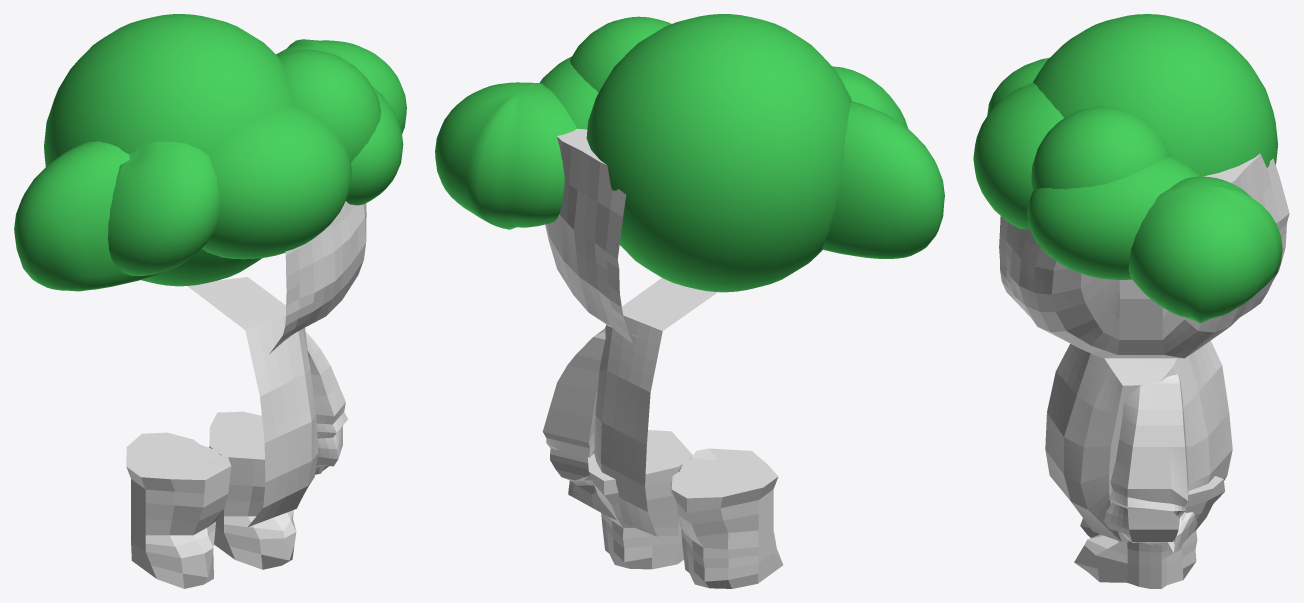
3 renders of one model, left to right at view 1: azimuth 30°, elevation 25°; view 2: azimuth 150°, elevation 25°; view 3: azimuth 270°, elevation 25°, orthographic. The views are drawn at different scales.
Parts seen in each view (by area): view 1: 球體.004, 球體, 左腳, 身體, 球體.005, 球體.006, 右腳, 頭, 球體.003, 球體.002, 立方體.003, 球體.001; view 2: 球體.004, 球體.001, 球體.005, 身體, 左腳, 頭, 右腳, 立方體.003, 球體.003, 球體.002, 球體.006; view 3: 球體.004, 身體, 頭, 球體.001, 立方體.003, 球體.002, 球體.003, 球體, 右腳, 球體.006.
Part boxes in pixels (x1,y1,x2,y2): 球體.004: [44, 14, 292, 286]; 球體: [202, 104, 351, 259]; 左腳: [126, 432, 231, 588]; 身體: [187, 277, 318, 526]; 球體.005: [14, 141, 165, 291]; 球體.006: [107, 141, 219, 275]; 右腳: [209, 411, 296, 569]; 頭: [269, 201, 366, 354]; 球體.003: [278, 49, 381, 162]; 球體.002: [345, 86, 403, 205]; 立方體.003: [305, 332, 347, 474]; 球體.001: [276, 39, 406, 133]; 球體.004: [586, 14, 852, 292]; 球體.001: [435, 82, 576, 229]; 球體.005: [822, 101, 944, 258]; 身體: [568, 278, 717, 536]; 左腳: [670, 448, 783, 588]; 頭: [545, 128, 636, 343]; 右腳: [587, 430, 692, 569]; 立方體.003: [542, 328, 605, 480]; 球體.003: [570, 16, 671, 92]; 球體.002: [539, 56, 598, 129]; 球體.006: [832, 66, 907, 127]; 球體.004: [1033, 14, 1277, 176]; 身體: [1045, 340, 1232, 552]; 頭: [999, 153, 1289, 358]; 球體.001: [1128, 176, 1282, 323]; 立方體.003: [1104, 374, 1188, 544]; 球體.002: [1027, 156, 1200, 279]; 球體.003: [1031, 106, 1171, 191]; 球體: [973, 82, 1063, 229]; 右腳: [1074, 476, 1224, 588]; 球體.006: [987, 57, 1049, 115].
Size of the model in its own units: 1.32 by 1.57 by 0.873.
